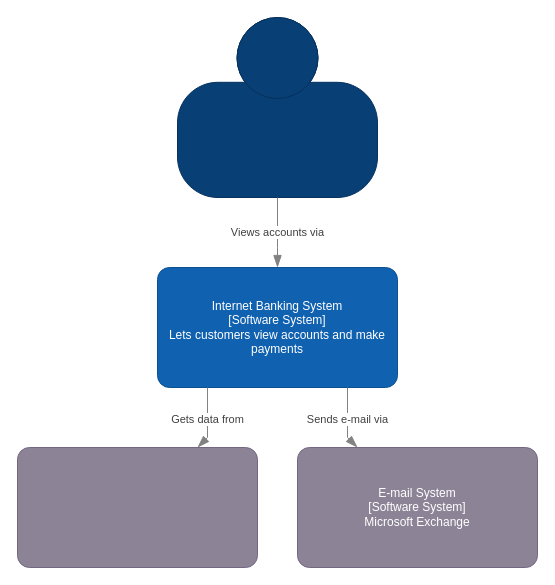
This 555x585 diagram has some shape labels left out. Each missing label, with the centre of its shape:
"Mainframe Banking [Software System] Stores core banking data" goes at point 137,507.
"Personal Customer [Person] A customer of the bank" goes at point 277,107.
